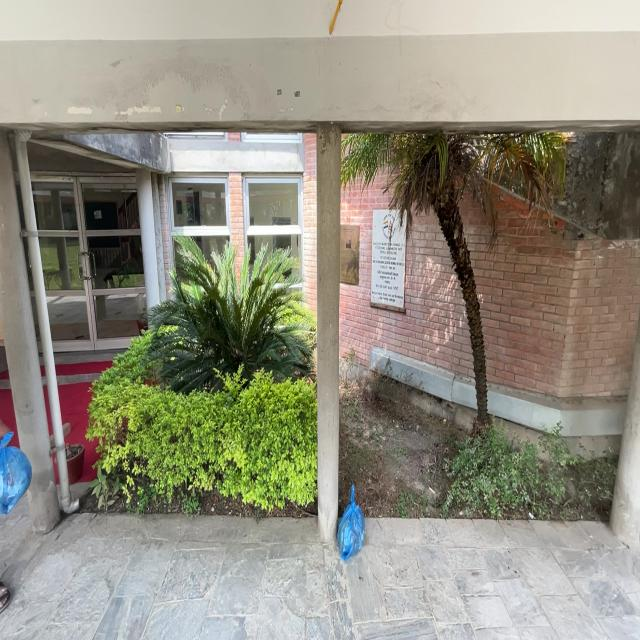garbage: (330, 474, 370, 564)
